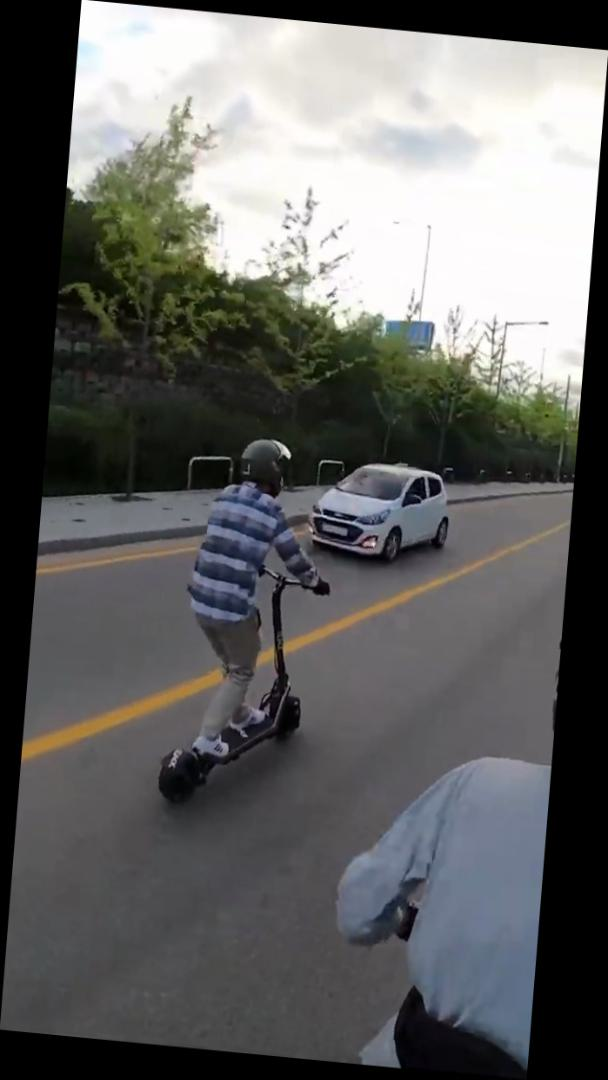helmet: (151, 426, 346, 821)
